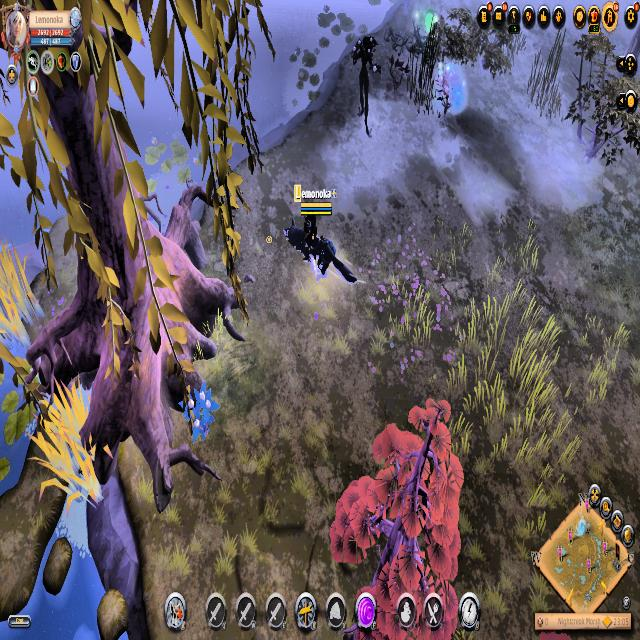fiber tier 4: (179, 380, 219, 446)
fiber tier 5: (436, 67, 464, 115)
